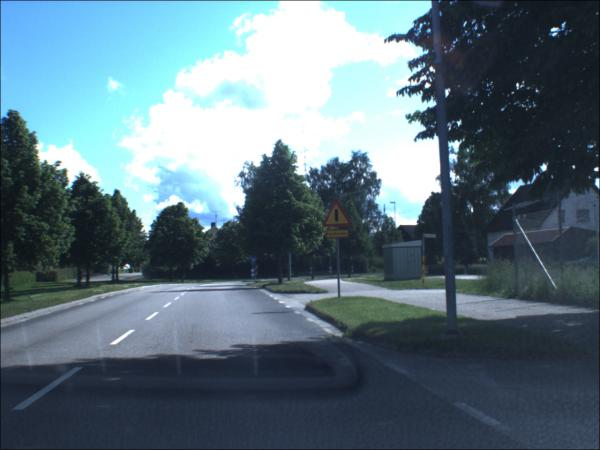PASS_RIGHT_SIDE: (251, 257, 258, 265)
WARNING: (324, 202, 354, 228)
